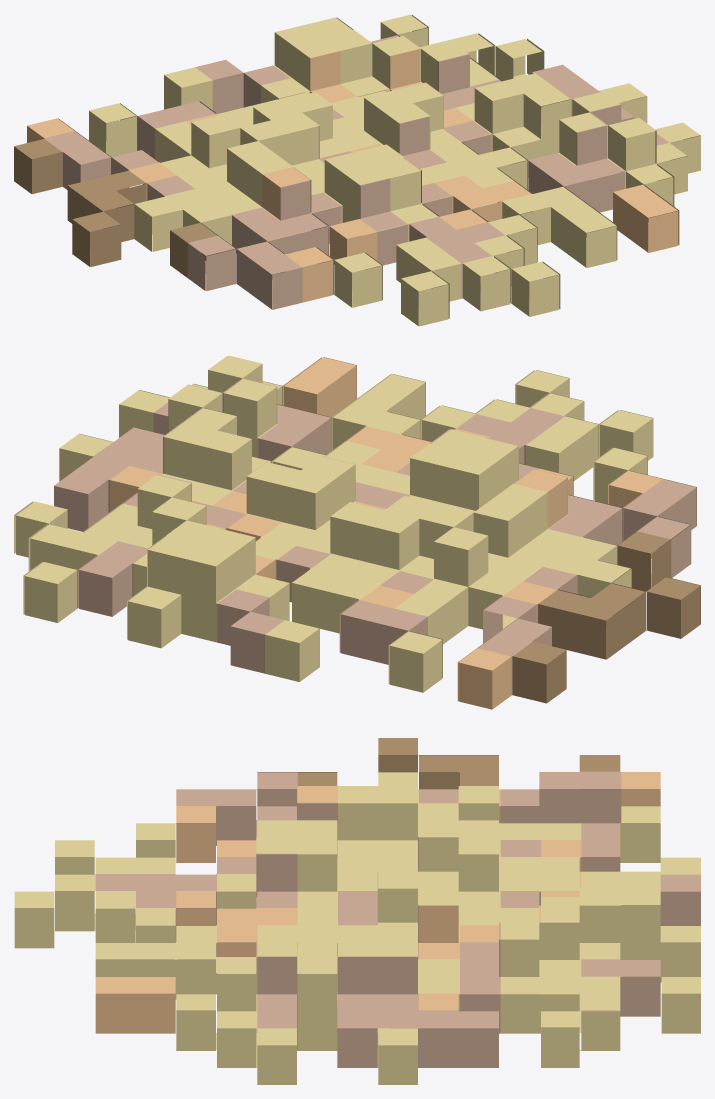
The model's file is scorchmark_7.gltf.
3 views of the same model, one above another, from view 1: azimuth 30°, elevation 25°; view 2: azimuth 150°, elevation 25°; view 3: azimuth 270°, elevation 25° (orthographic). The views are drawn at different scales.
Visible parts, largest first — view 1: scorchmark_7; view 2: scorchmark_7; view 3: scorchmark_7.
Part boxes in pixels (<box>): scorchmark_7: <box>14,14,700,326</box>; scorchmark_7: <box>14,355,700,709</box>; scorchmark_7: <box>14,738,700,1084</box>.
Bounding box in the file's own units: 1.71 × 0.1999 × 1.62.
1 material, 1 textured.
